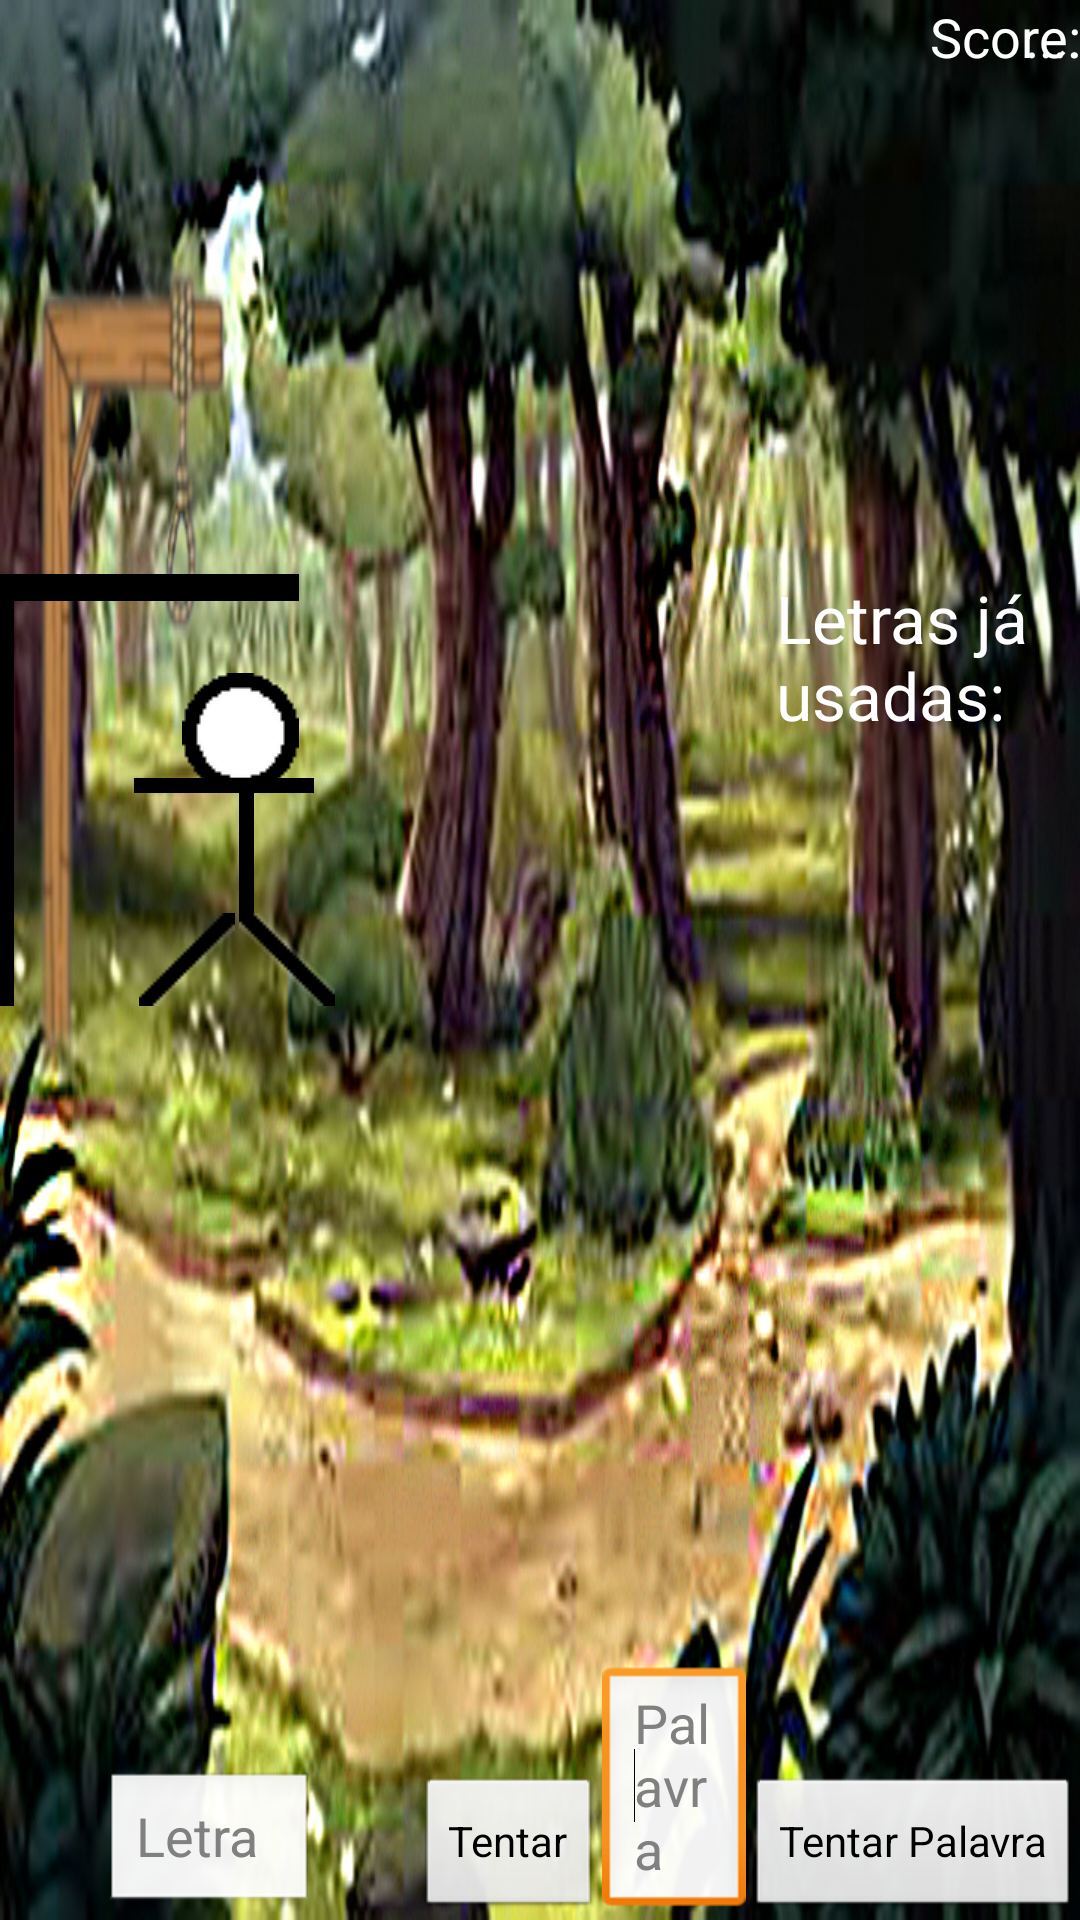

Screen size 1080px×1920px. Icon name, then its center in pixels as (x,y):
cabeca: (240,733)
pernadireita: (287,959)
pernaesquerda: (186,959)
